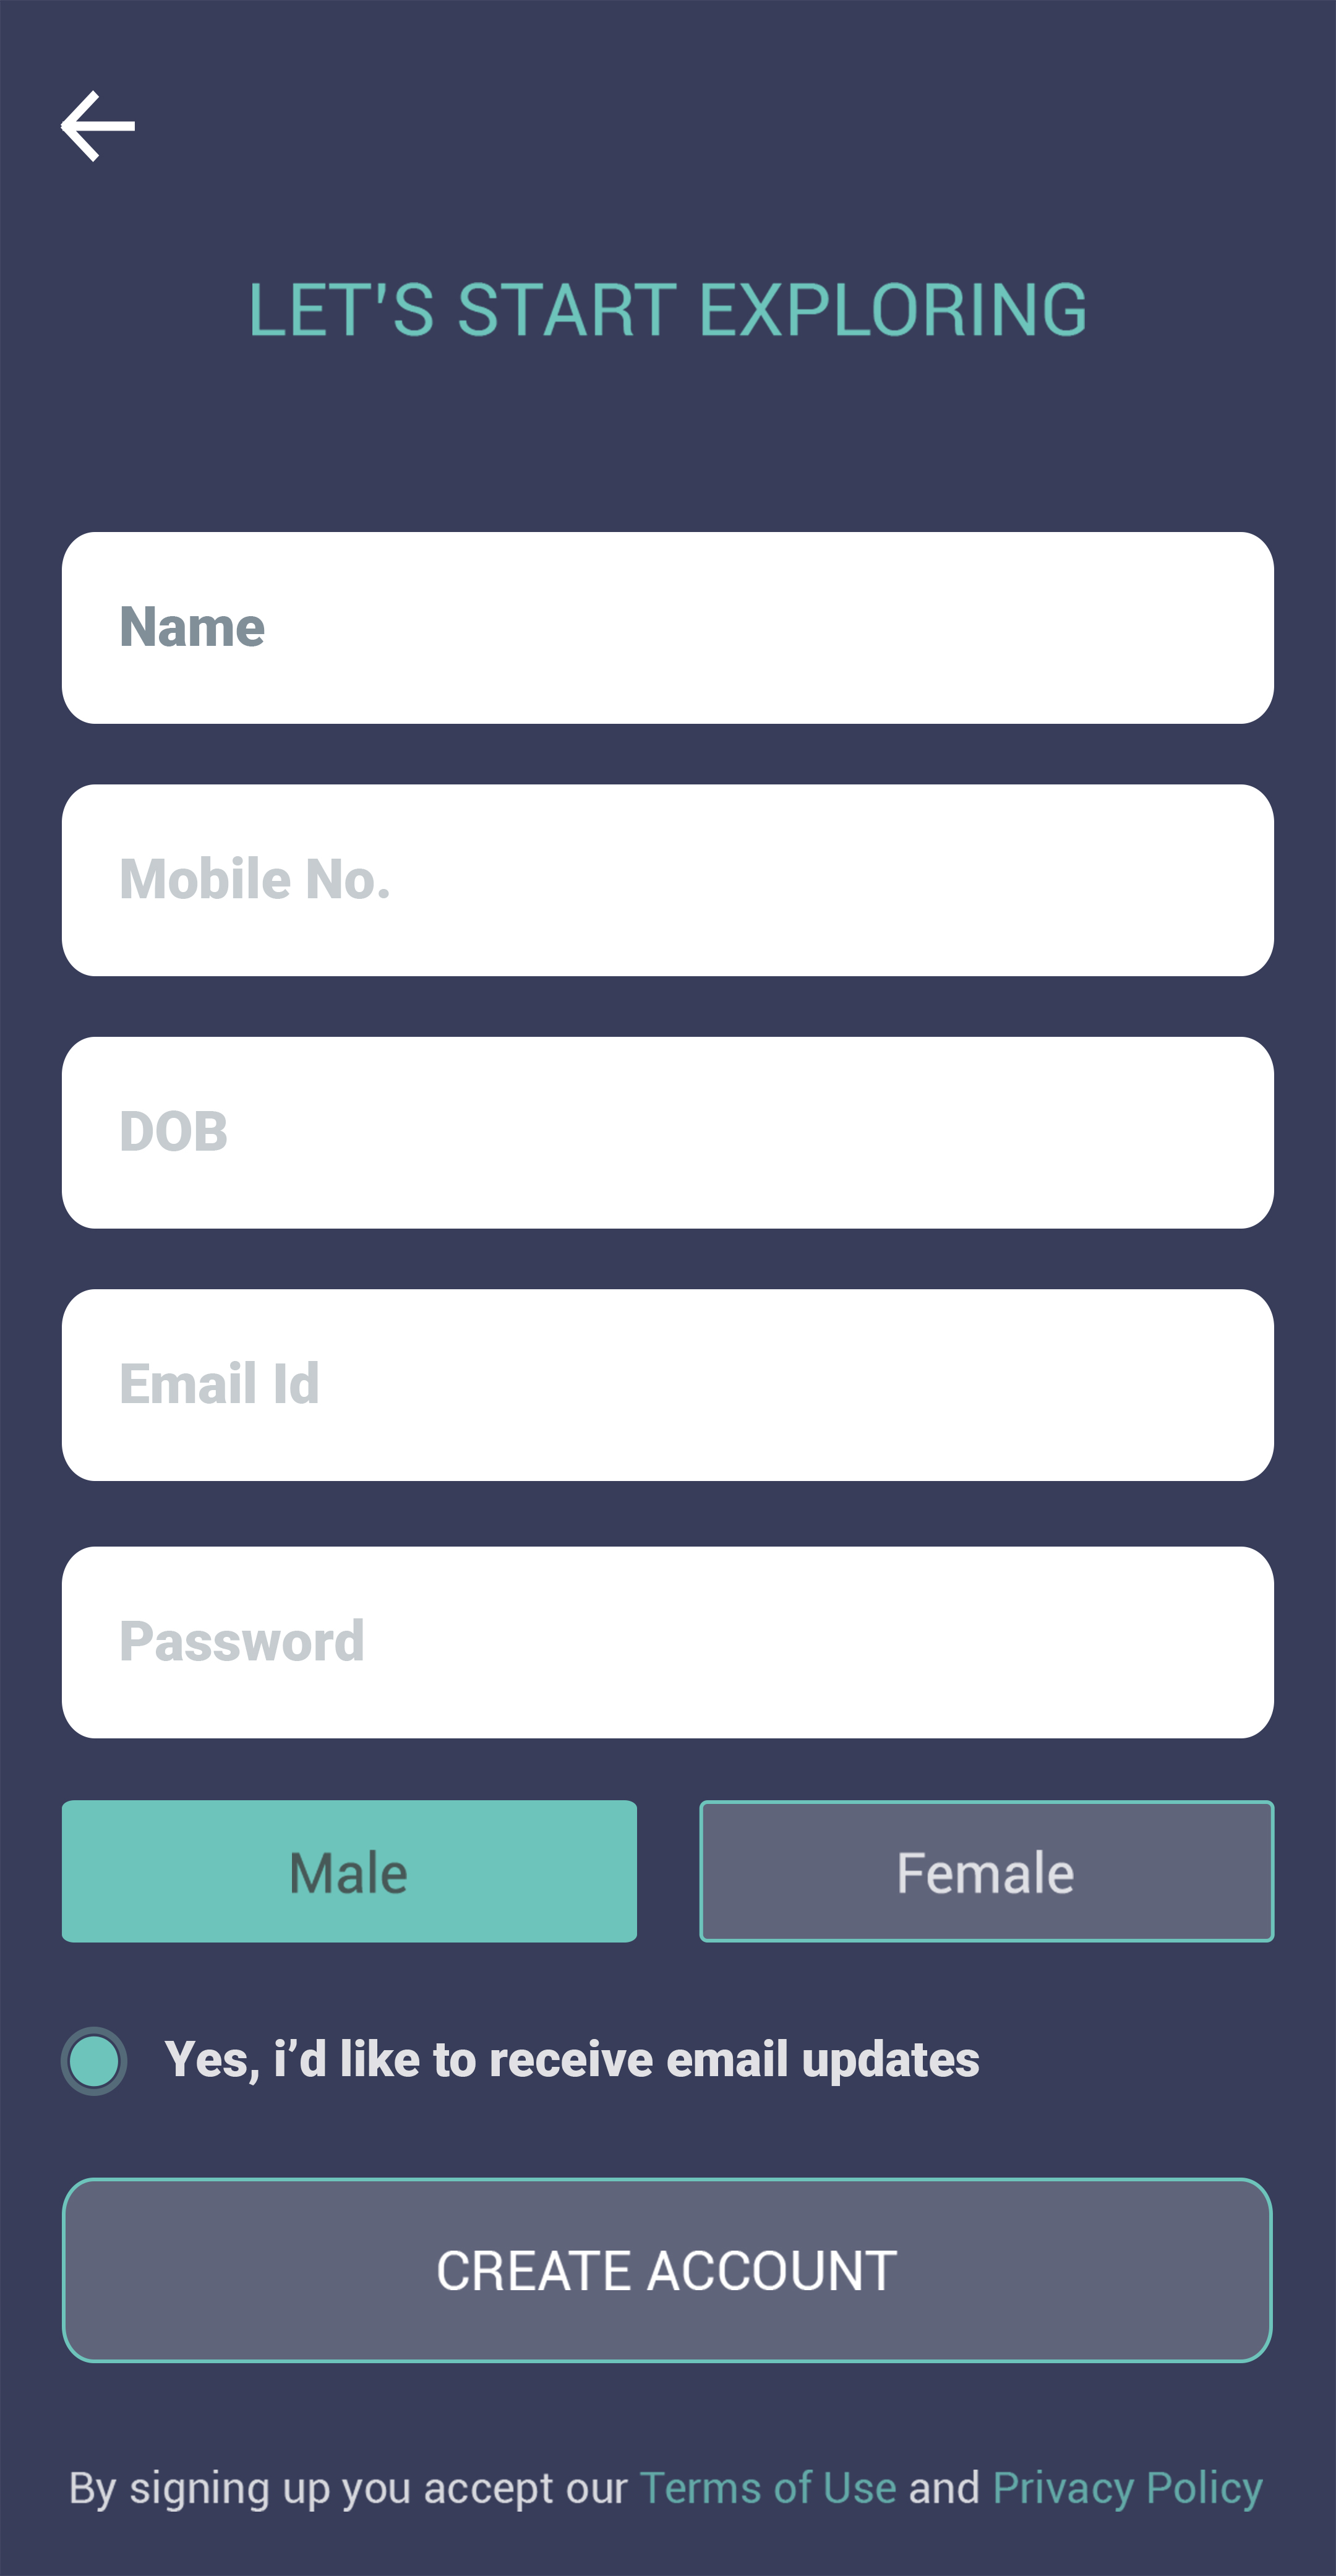CheckedTextView: (60, 2026, 980, 2097)
EditText: (61, 532, 1275, 726), (61, 784, 1275, 978), (61, 1288, 1275, 1482), (61, 1545, 1275, 1739), (61, 1038, 1275, 1230)
Icon: (61, 90, 136, 164)
Text: (70, 2467, 1264, 2513), (252, 281, 1085, 339), (164, 2038, 980, 2087), (121, 857, 390, 900), (121, 1619, 363, 1663), (121, 1360, 319, 1406), (121, 607, 266, 649), (123, 1109, 228, 1152)
TextButton: (61, 2176, 1273, 2365), (61, 1799, 639, 1944), (699, 1799, 1275, 1944)
